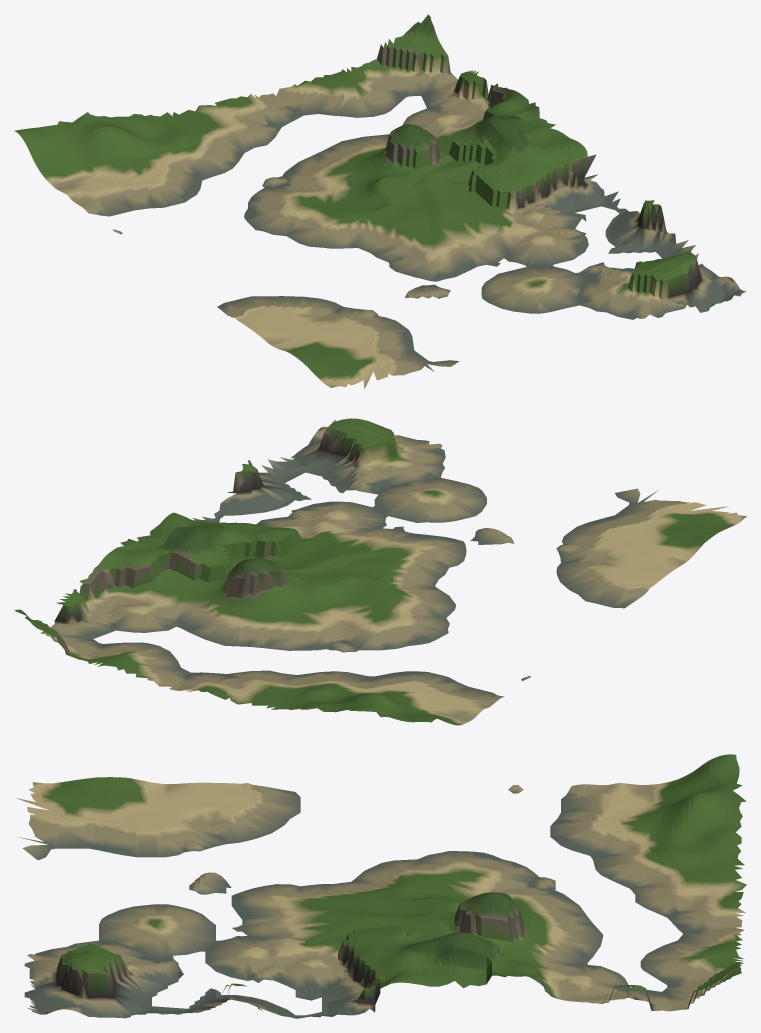
File: coast_tile_x0z1_lod1.glb
3 renders of one model, top to bottom at view 1: azimuth 30°, elevation 25°; view 2: azimuth 150°, elevation 25°; view 3: azimuth 270°, elevation 25°, orthographic. The views are drawn at different scales.
Parts seen in each view (by area): view 1: geometry_0; view 2: geometry_0; view 3: geometry_0.
Boxes of the visible parts, left/top/right/bottom form: geometry_0: left=14, top=14, right=746, bottom=389; geometry_0: left=14, top=418, right=746, bottom=725; geometry_0: left=16, top=754, right=746, bottom=1018.
Size of the model in its own units: 612 by 69.5 by 828.
